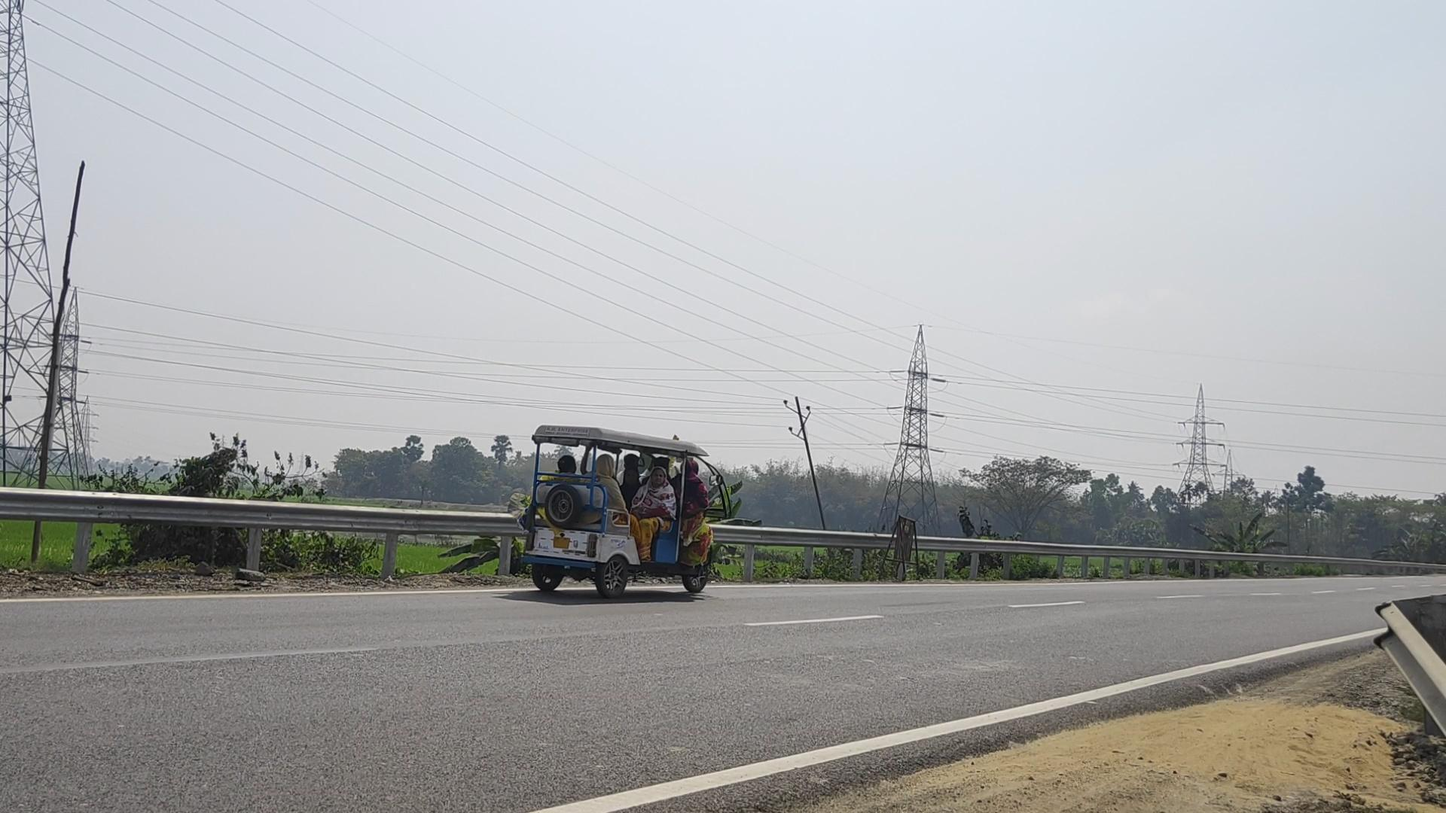Auto: (522, 425, 732, 600)
